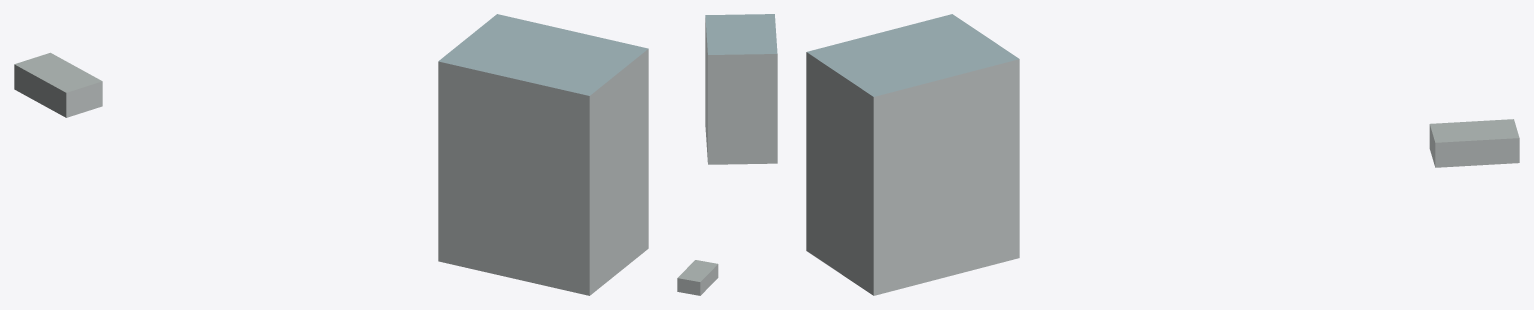
Rendered from far.glb.
3 views of the same model, side by side, from view 1: azimuth 30°, elevation 25°; view 2: azimuth 150°, elevation 25°; view 3: azimuth 270°, elevation 25° (orthographic). The views are drawn at different scales.
Size of the model in its own units: 32.58 by 19.9 by 64.65.
